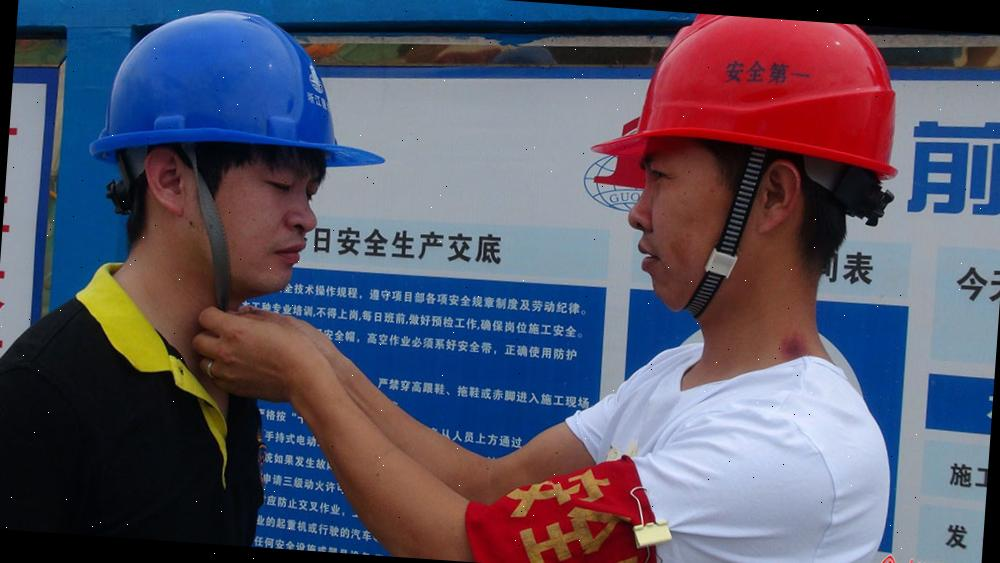helmet: (583, 6, 930, 193), (96, 2, 397, 185)
no_wear: (0, 301, 270, 546), (595, 366, 889, 563)
